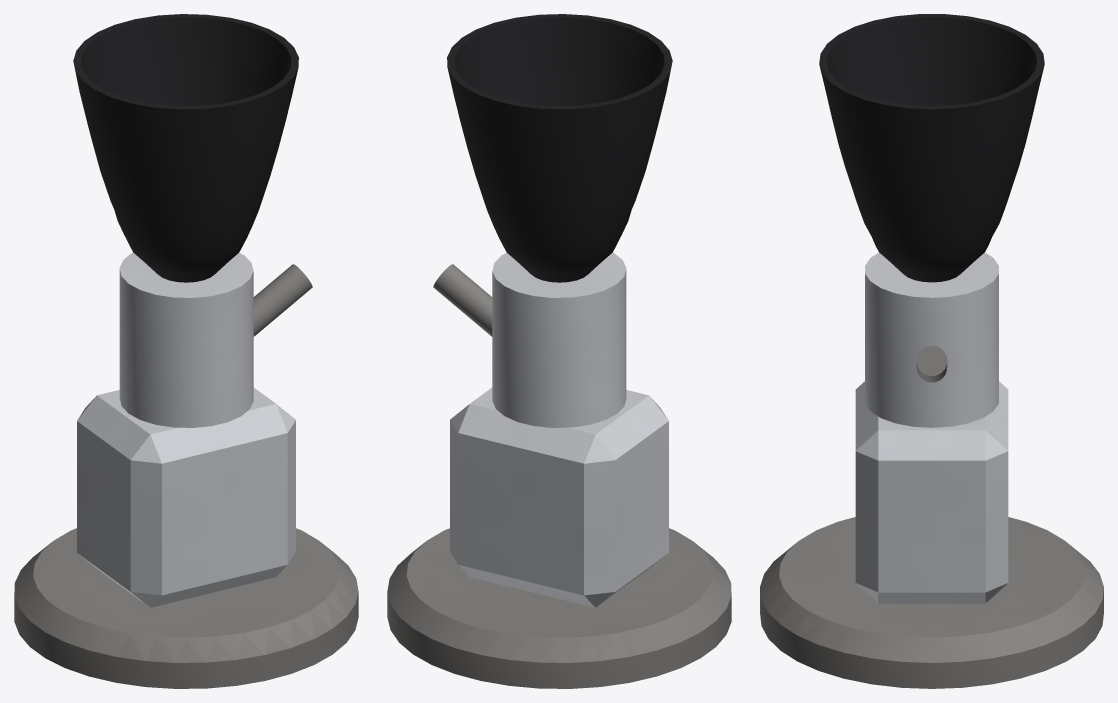
Rendered from ax_util_09_methalox_thruster.glb.
The picture shows the model from 3 angles, left to right: view 1: azimuth 30°, elevation 25°; view 2: azimuth 150°, elevation 25°; view 3: azimuth 270°, elevation 25°; orthographic projection.
Parts seen in each view (by area): view 1: nozzle, valve_body, mount_flange, chamber, igniter; view 2: nozzle, valve_body, mount_flange, chamber, igniter; view 3: nozzle, mount_flange, valve_body, chamber, igniter.
Part boxes in pixels (x1,y1,x2,y2): nozzle: (73,14,298,282); valve_body: (77,387,295,607); mount_flange: (14,528,358,688); chamber: (119,252,253,427); igniter: (253,264,312,336); nozzle: (447,14,672,282); valve_body: (450,387,668,607); mount_flange: (387,528,731,688); chamber: (492,252,626,427); igniter: (433,264,492,336); nozzle: (819,14,1044,282); mount_flange: (760,517,1103,688); valve_body: (855,381,1008,603); chamber: (865,252,998,427); igniter: (916,345,947,382).
Size of the model in its own units: 0.18 by 0.32 by 0.1799.
3 materials, 2 textured.
